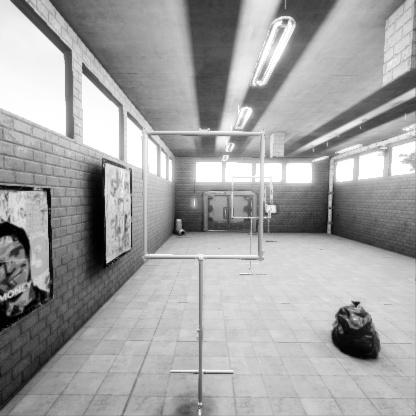gate: (147, 164, 269, 286), (232, 199, 274, 241), (265, 205, 273, 232)
